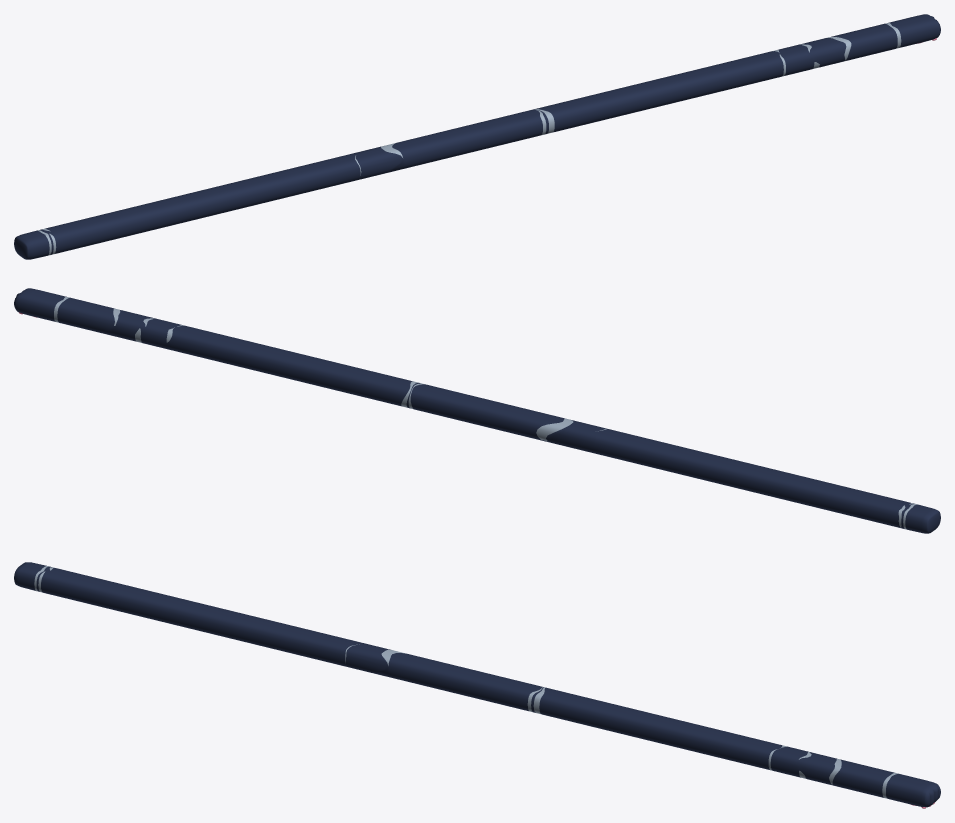
3 views of the same model, one above another, from view 1: azimuth 30°, elevation 25°; view 2: azimuth 150°, elevation 25°; view 3: azimuth 330°, elevation 25° (orthographic).
Visible parts, largest first — view 1: Paw; view 2: Paw; view 3: Paw.
Part boxes in pixels (x1,y1,x2,y2): Paw: [14, 14, 940, 259]; Paw: [14, 288, 940, 533]; Paw: [14, 562, 940, 808].
Size of the model in its own units: 0.8582 by 0.0195 by 0.0249.
